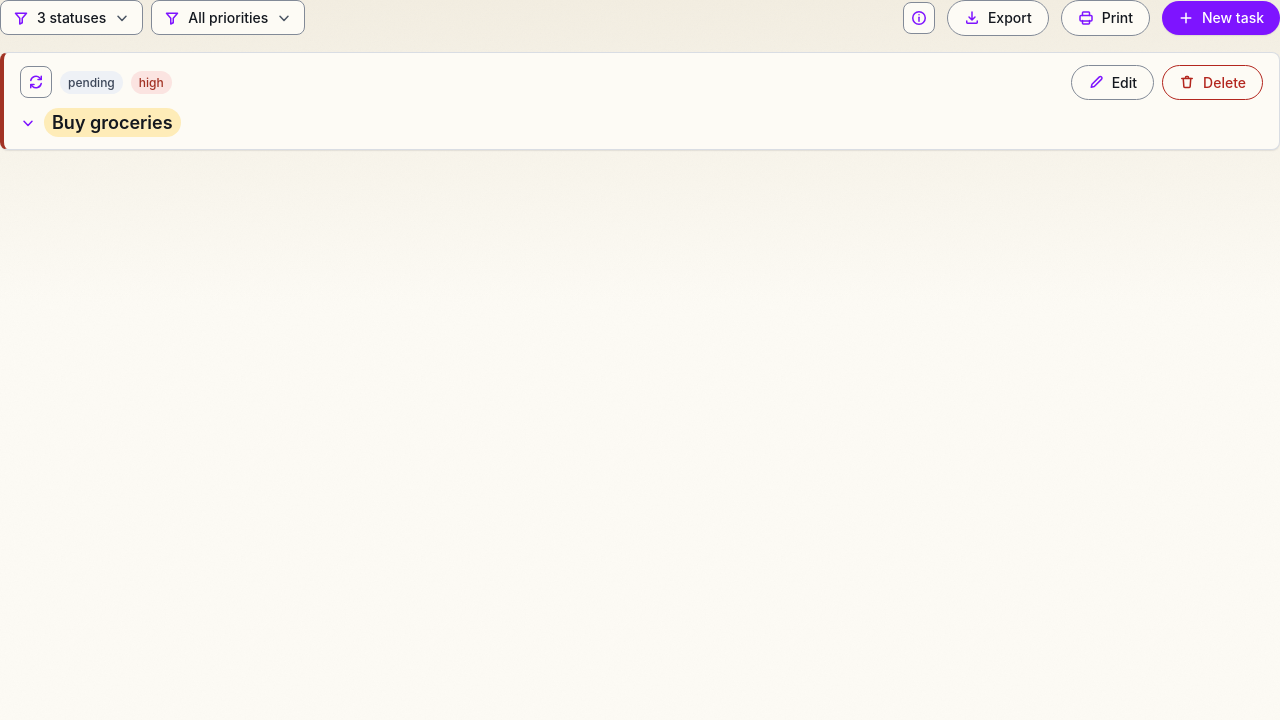
it: TaskList › creating a task adds it locally, closes the modal, and shows a success toast
Click the button "New task". click: [1221, 18]
box: 1162,1 -> 1279,34
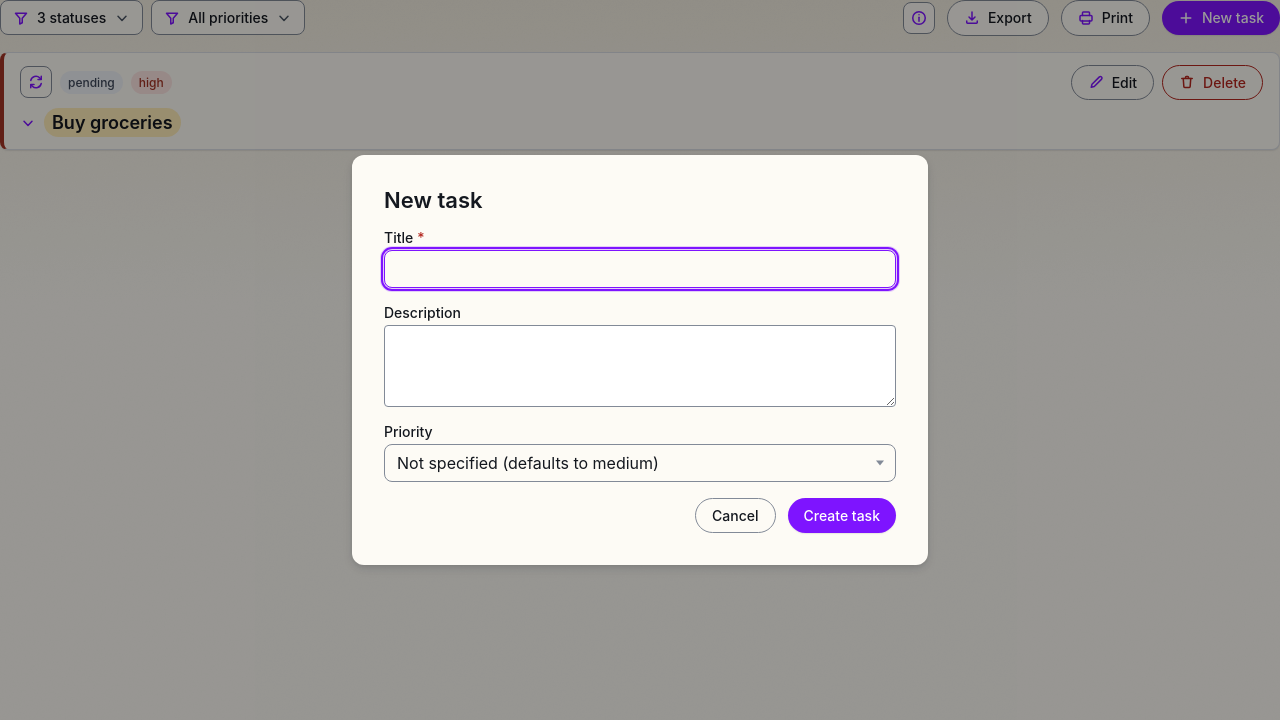
Now the dialog "New task" is shown, box 352,155 -> 928,565
Type "New task" into the field labelled "Title*". click: [640, 269]
box: 384,250 -> 896,288
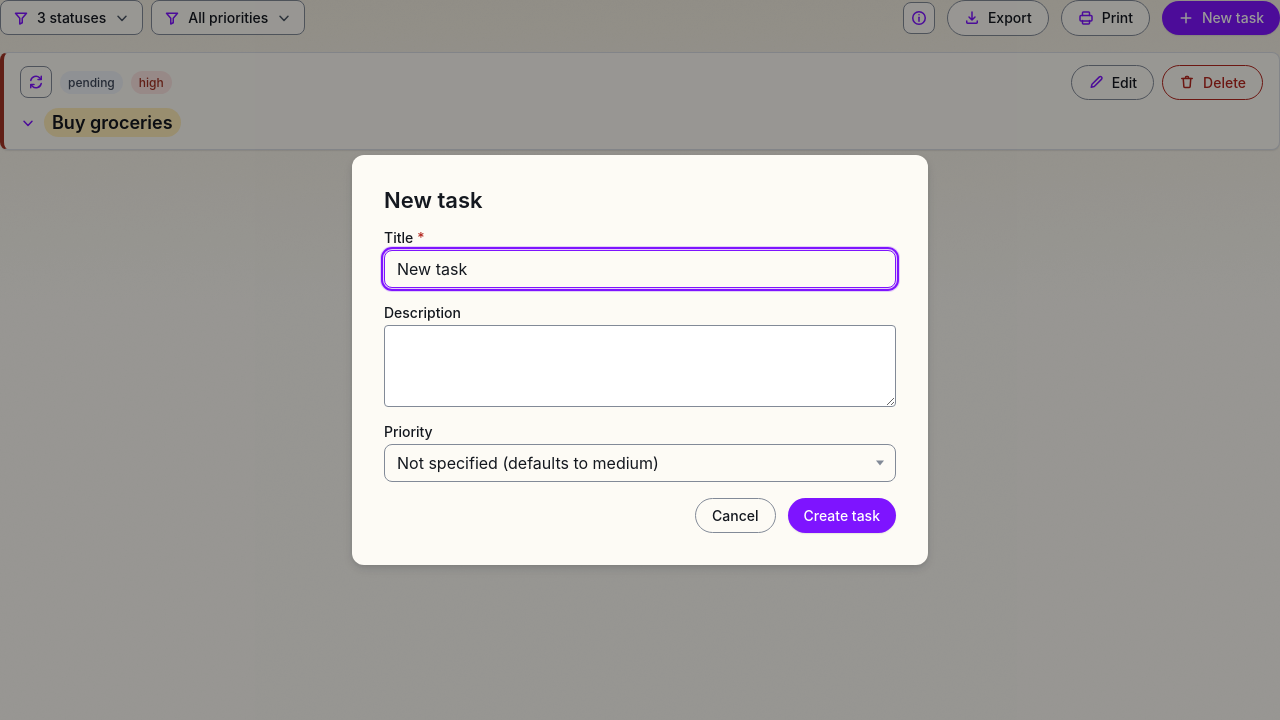
Click the button "Create task". click: [842, 516]
box: 788,498 -> 896,533
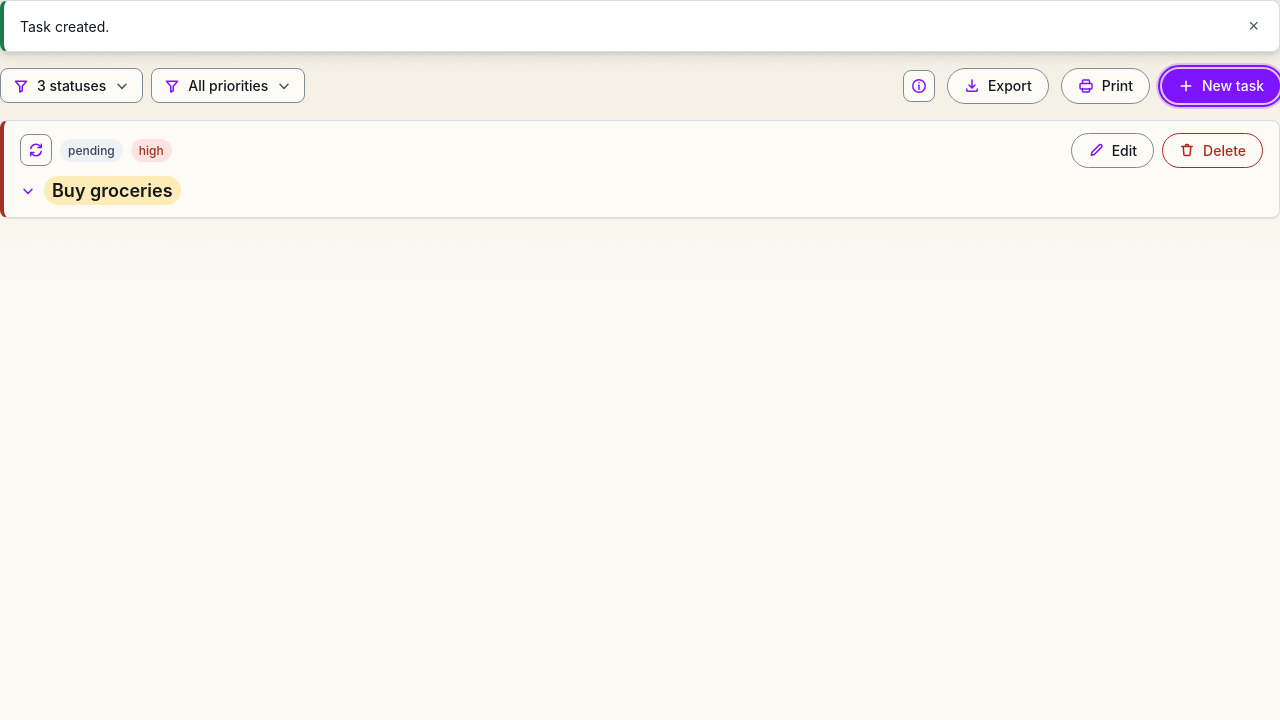
Now the dialog is gone
Now the text "Task created." is shown, box 20,18 -> 109,34
